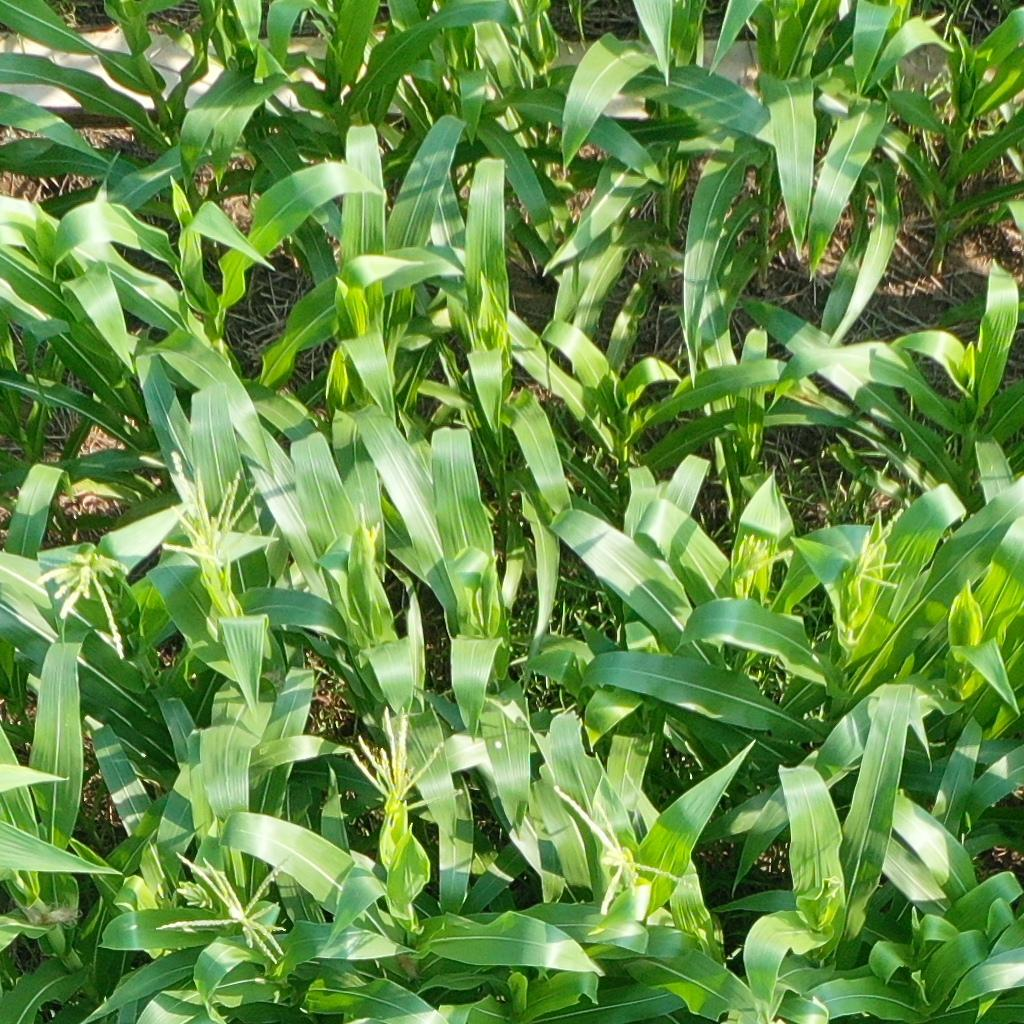Tassel: (550, 777, 701, 919), (151, 845, 297, 965), (344, 704, 467, 818), (162, 448, 266, 565), (32, 547, 139, 660), (838, 508, 908, 600), (727, 532, 797, 589), (356, 503, 385, 554), (173, 879, 215, 910)
